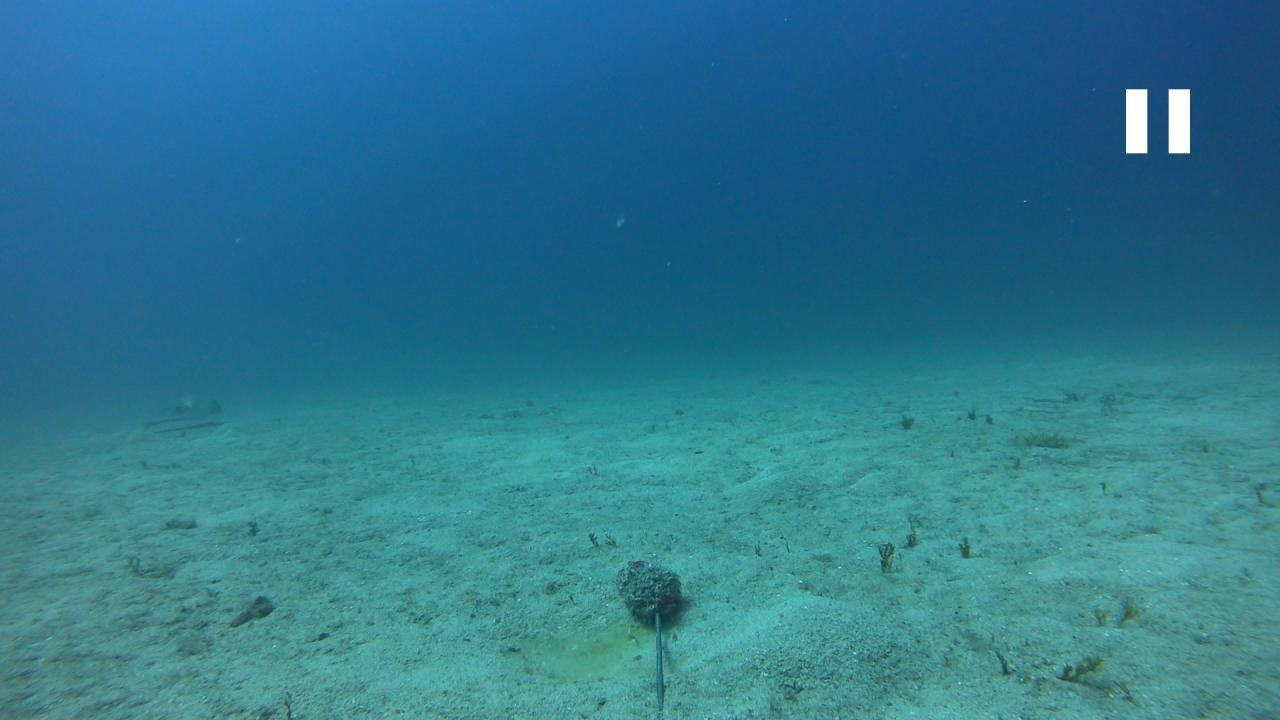dasyatis: (140, 394, 226, 428)
